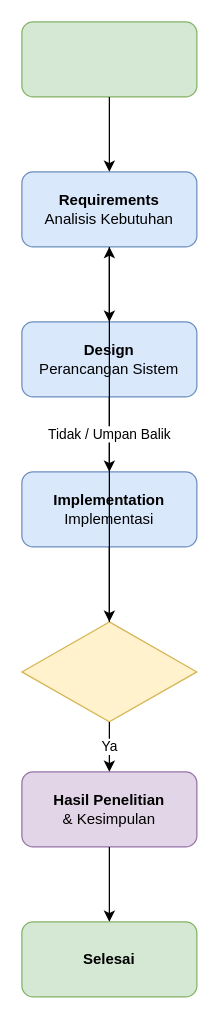
Image size: 219x1019. Some labels were removed from this diagram. Each missing label, with the box of its shape:
Mulai: (21, 21, 197, 97)
Testing Memenuhi?: (21, 621, 197, 722)
